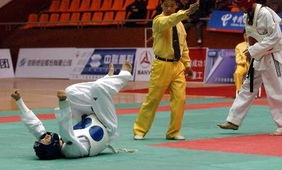falling: (7, 55, 135, 161)
